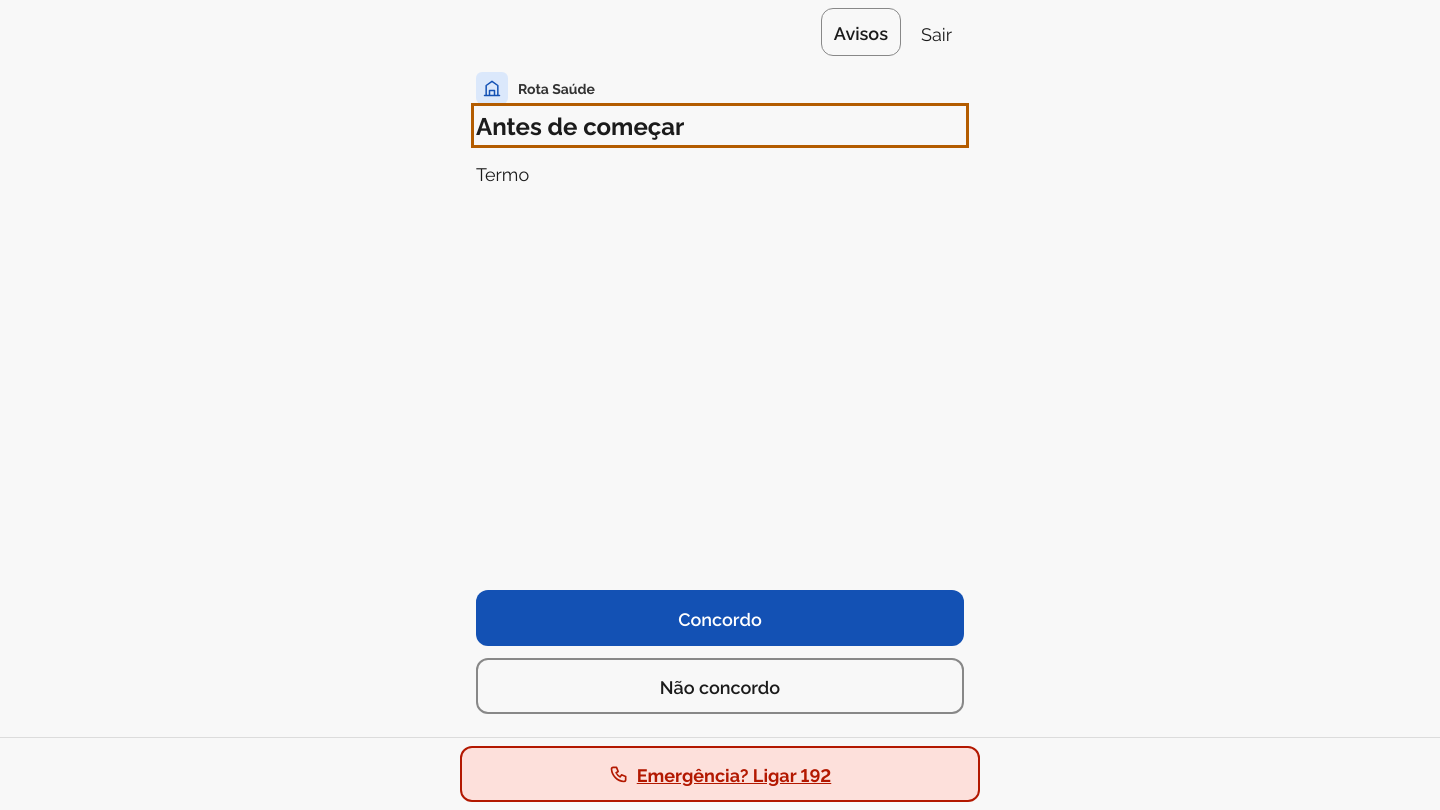
Test case: Flow — Meus exames (módulo 21a) › com os dois interruptores: os dois botões
Click the button "Concordo". click: (720, 618)
box: [476,590,964,646]
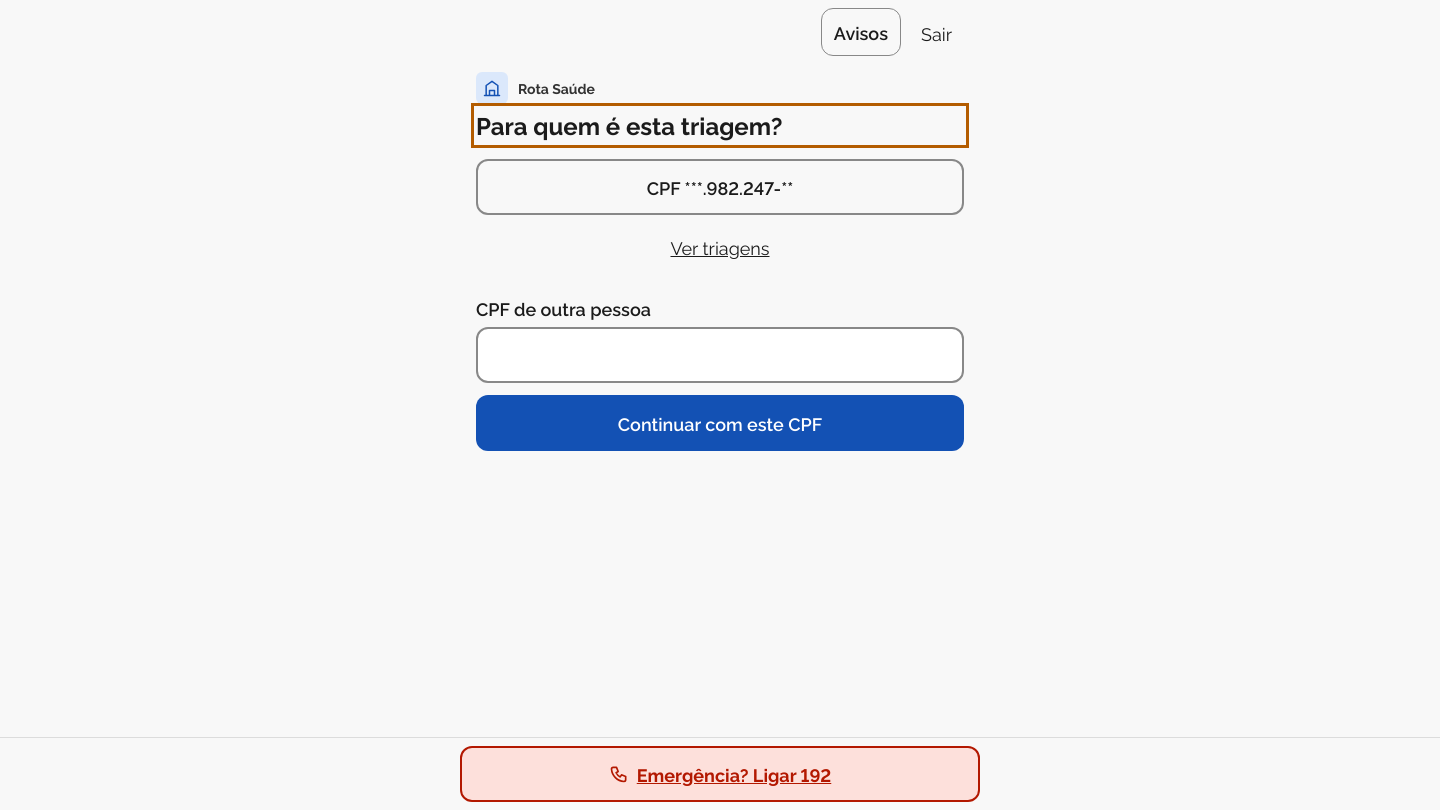
Click the button with aria-label "Ver triagens de ***.982.247-**". click: (720, 247)
box: [476,223,964,271]
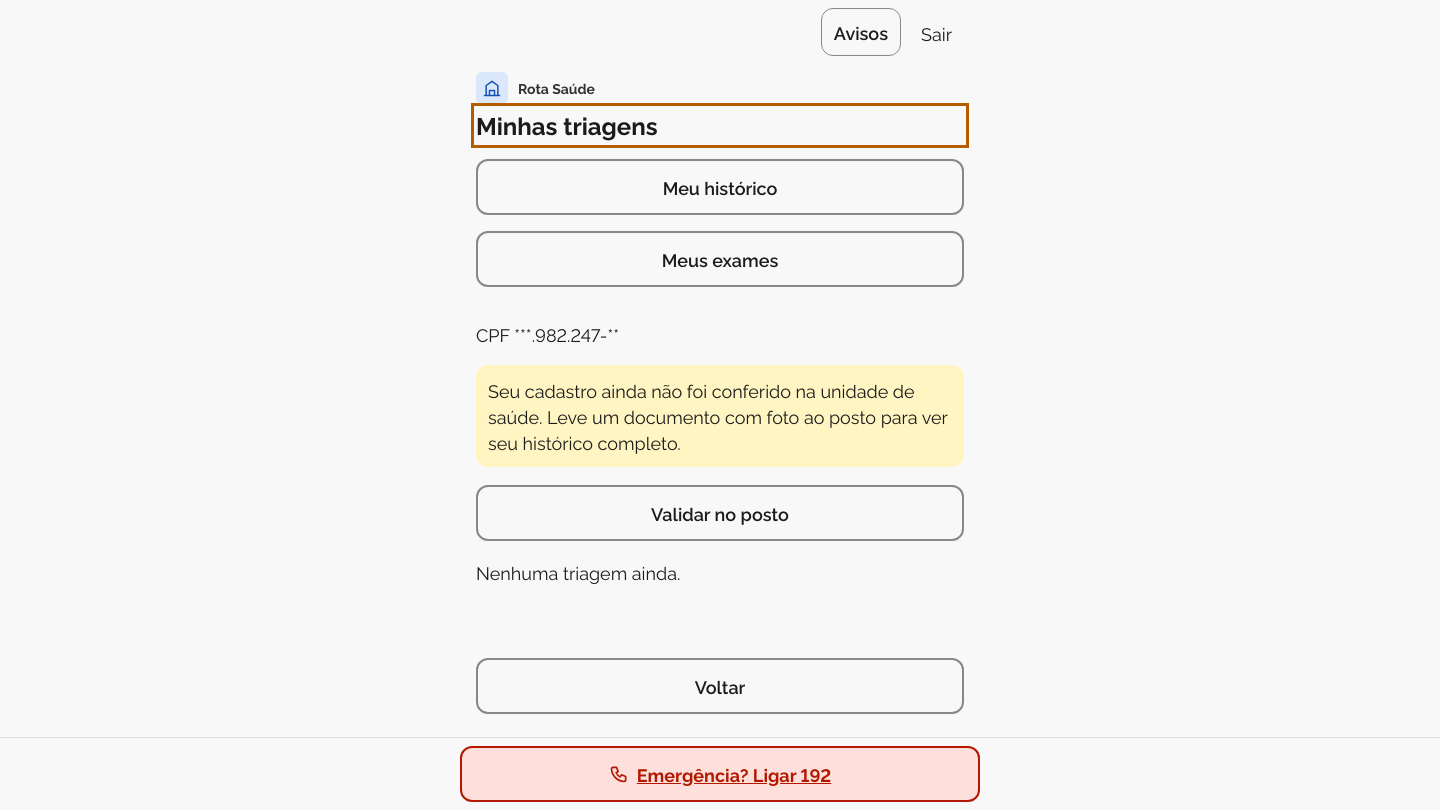
Expected: the heading "Minhas triagens" is shown, [476,108,658,141]
Expected: the button "Meu histórico" is shown, [476,159,964,215]
Expected: the button "Meus exames" is shown, [476,231,964,287]
